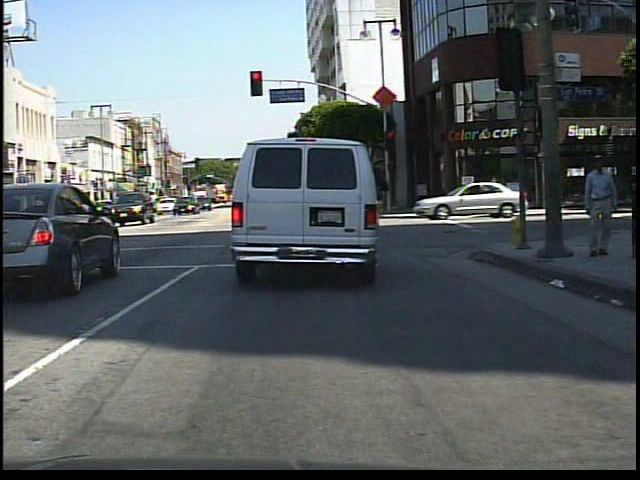person: (580, 149, 623, 260)
